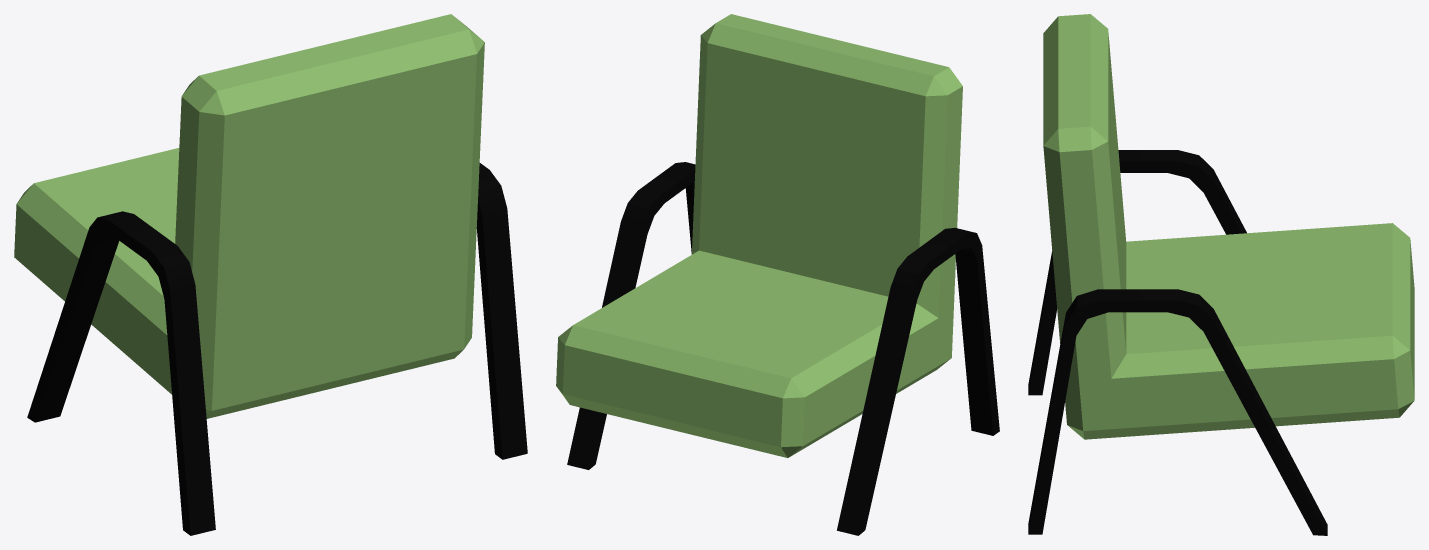
File: MOD_single_sofa.fbx
The picture shows the model from 3 angles, left to right: view 1: azimuth 30°, elevation 25°; view 2: azimuth 150°, elevation 25°; view 3: azimuth 270°, elevation 25°; orthographic projection. The views are drawn at different scales.
Parts seen in each view (by area): view 1: single_sofa; view 2: single_sofa; view 3: single_sofa.
Boxes of the visible parts, x1,y1,x2,y2 form: single_sofa: [14, 14, 527, 535]; single_sofa: [556, 14, 999, 535]; single_sofa: [1028, 14, 1414, 535].
Bounding box in the file's own units: 0.9135 × 1.1 × 0.9904.
